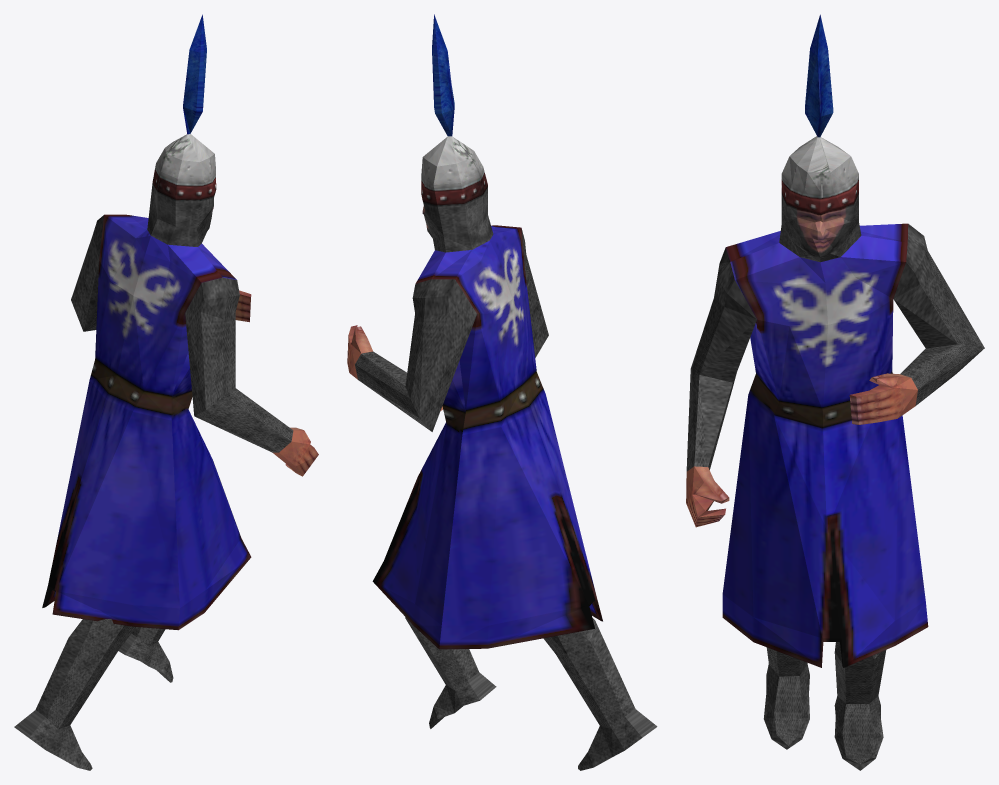
Rendered from guard_run7.obj.
3 views of the same model, side by side, from view 1: azimuth 30°, elevation 25°; view 2: azimuth 150°, elevation 25°; view 3: azimuth 270°, elevation 25° (orthographic). The views are drawn at different scales.
Parts seen in each view (by area): view 1: Object_1; view 2: Object_1; view 3: Object_1.
Part boxes in pixels (bbox=[...]): Object_1: bbox=[14, 14, 318, 770]; Object_1: bbox=[347, 14, 657, 770]; Object_1: bbox=[686, 14, 984, 770].
Size of the model in its own units: 0.8472 by 2.22 by 0.7471.
1 material, 1 textured.
